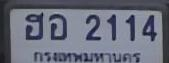1: (106, 12, 115, 40), (125, 14, 134, 40)
2: (85, 13, 100, 40)
4: (141, 14, 156, 40)
A43: (48, 13, 66, 38)
A44: (24, 11, 43, 39)
BKK: (31, 50, 143, 63)
